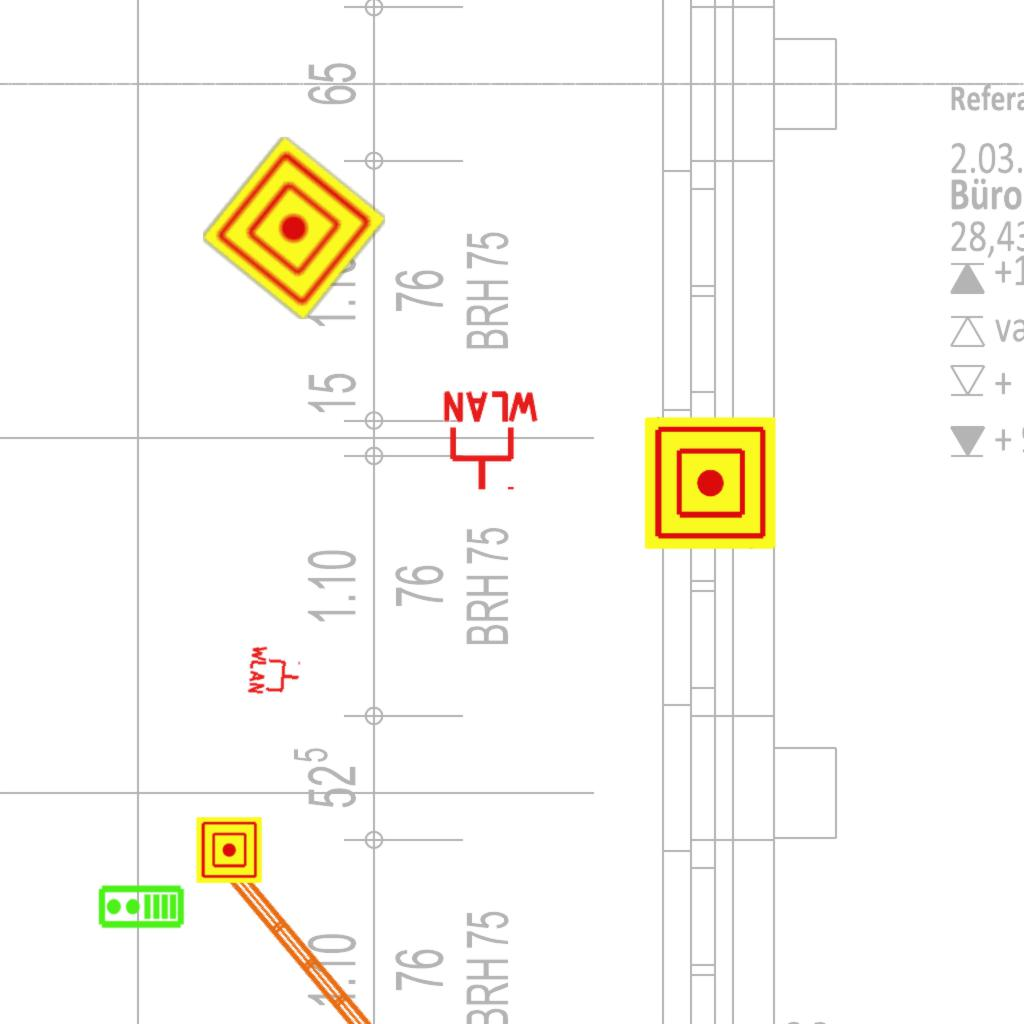Ambulanz_Pendelleuchte_LED: (194, 814, 487, 1024)
Gegensprechanlage_mit_Video: (97, 884, 185, 931)
NAM-Nichtautomatischer_Melder: (201, 135, 387, 321), (644, 417, 776, 549), (196, 817, 262, 883)
WLAN: (439, 389, 543, 494), (246, 642, 304, 700)
